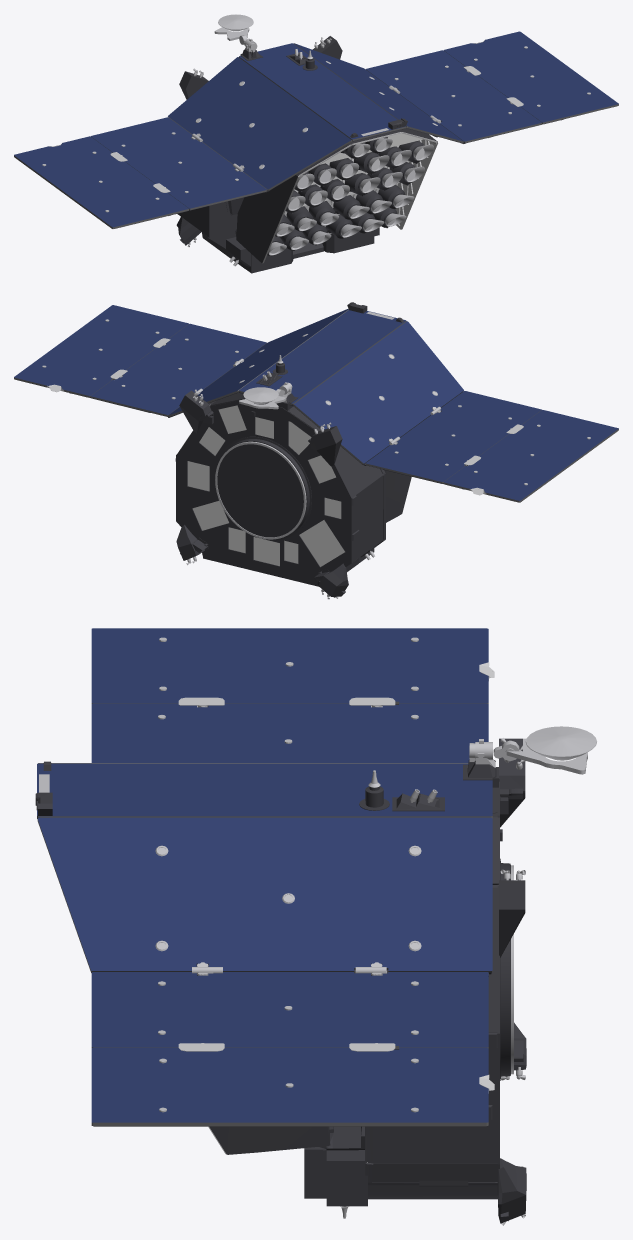
File: plato.glb
The picture shows the model from 3 angles, top to bottom: view 1: azimuth 30°, elevation 25°; view 2: azimuth 150°, elevation 25°; view 3: azimuth 270°, elevation 25°; orthographic projection. The views are drawn at different scales.
Parts seen in each view (by area): view 1: SA_panel_cells, MLI_carbon, Cameras_details, SolarBackPanel, Frames, Stairs; view 2: SA_panel_cells, MLI_carbon, Radiators, Cameras_details, SolarBackPanel, Frames; view 3: SA_panel_cells, MLI_carbon, Cameras_details, SolarBackPanel, Frames.
Boxes of the visible parts, x1,y1,x2,y2 form: SA_panel_cells: (14,31,618,227); MLI_carbon: (24,36,616,273); Cameras_details: (42,14,590,266); SolarBackPanel: (14,43,618,228); Frames: (47,39,523,263); Stairs: (302,133,422,206); SA_panel_cells: (14,305,618,500); MLI_carbon: (18,302,606,596); Radiators: (187,405,344,566); Cameras_details: (42,311,590,599); SolarBackPanel: (14,309,618,502); Frames: (47,338,523,511); SA_panel_cells: (37,628,492,1122); MLI_carbon: (35,704,526,1223); Cameras_details: (39,637,596,1225); SolarBackPanel: (37,701,492,1126); Frames: (178,662,494,1154).
Bounding box in the file's own units: 9.1 × 3.45 × 4.37.
